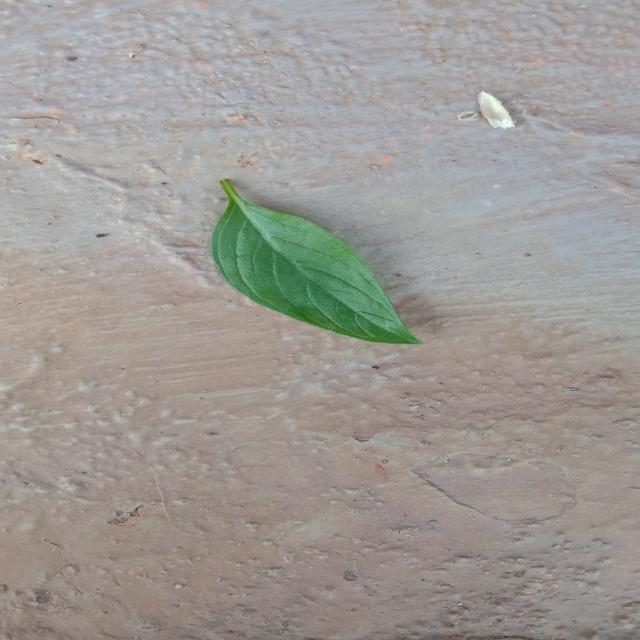kamakasturi: (212, 180, 420, 344)
